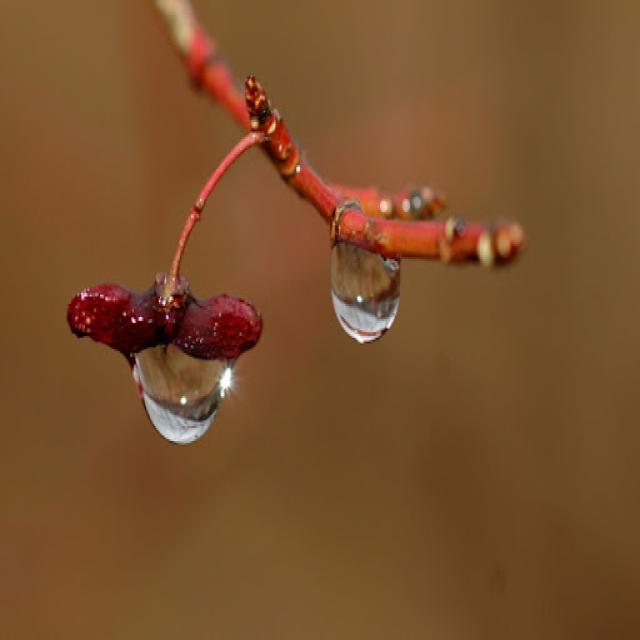raindrop: (124, 318, 251, 495), (314, 208, 417, 378)
